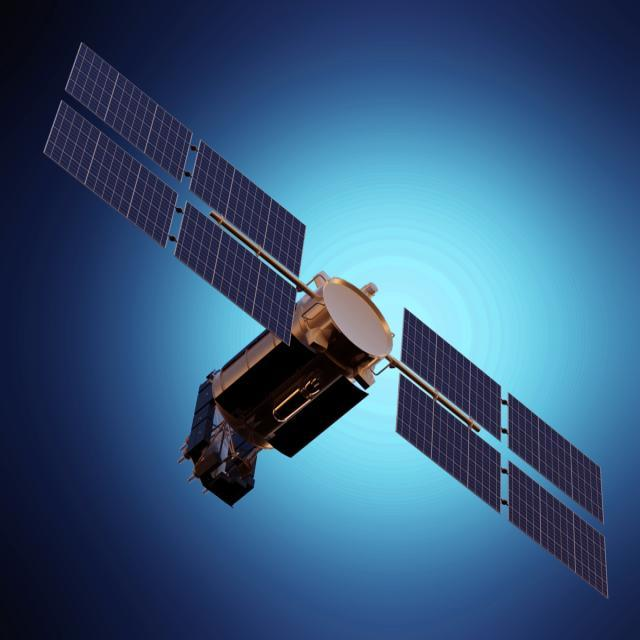sat: (37, 28, 616, 612)
